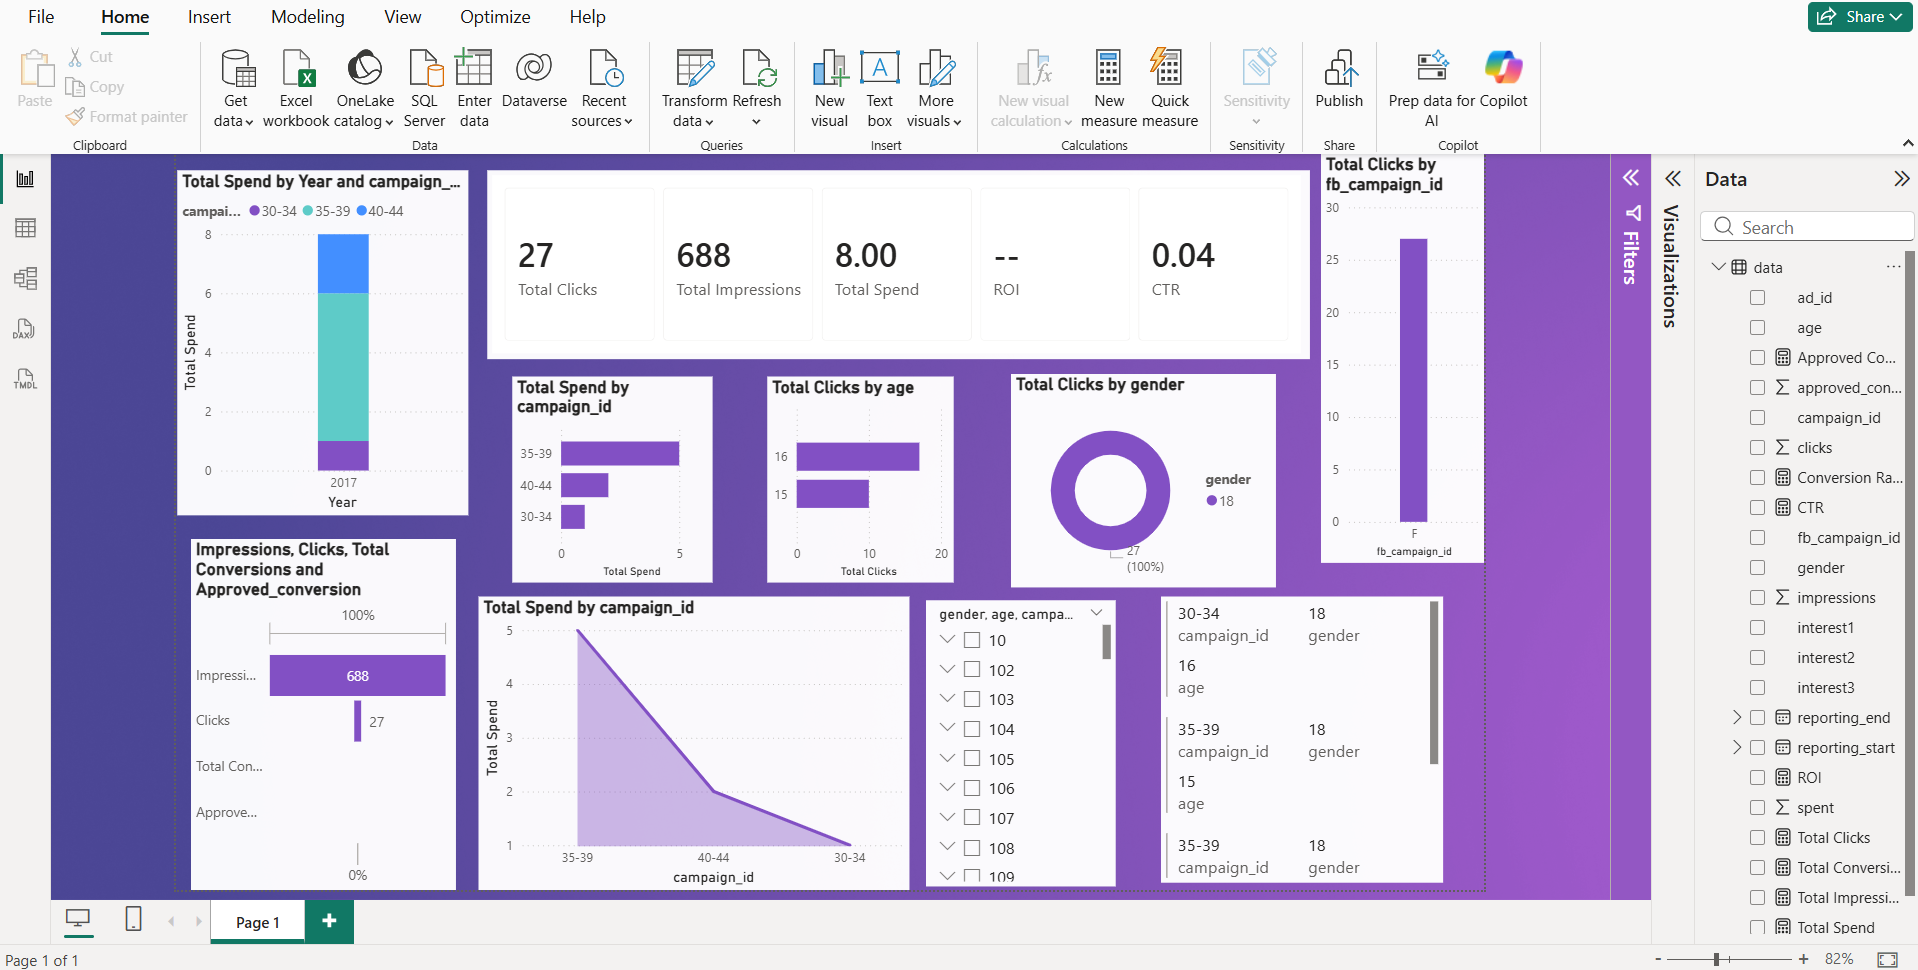

The page's visual inventory and layout, read from the dashboard file:
{"tool":"powerbi","page":{"name":"Page 1","canvas":[1280,720],"ordinal":0},"visuals":[{"type":"barChart","fields":{"Category":["data.campaign_id"],"Y":["data.Total Spend"]},"box":[328.9,217.7,195.7,201.8],"z":0},{"type":"clusteredColumnChart","fields":{"Category":["data.fb_campaign_id"],"Y":["data.Total Clicks"]},"box":[1120.1,0,160.2,399.9],"z":1000},{"type":"donutChart","fields":{"Category":["data.gender"],"Y":["data.Total Clicks"]},"box":[816.9,215.2,259.2,209.1],"z":2000},{"type":"barChart","fields":{"Category":["data.age"],"Y":["data.Total Clicks"]},"box":[578.4,217.7,182.2,201.8],"z":3000},{"type":"slicer","fields":{"Values":["data.gender","data.age","data.campaign_id"]},"box":[733.7,436.6,185.9,280],"z":4000},{"type":"cardVisual","fields":{"Data":["data.Total Clicks","data.Total Impressions","data.Total Spend","data.ROI","data.CTR"]},"box":[304.5,15.9,804.6,184.6],"z":5000},{"type":"funnel","fields":{"Y":["Sum(data.impressions)","Sum(data.clicks)","data.Total Conversions","Sum(data.approved_conversion)"]},"box":[14.7,376.6,259.2,343.6],"z":6000},{"type":"areaChart","fields":{"Category":["data.campaign_id"],"Y":["data.Total Spend"]},"box":[295.9,432.9,421.9,287.4],"z":7000},{"type":"columnChart","fields":{"Category":["data.reporting_start.Variation.Date Hierarchy.Year","data.reporting_start.Variation.Date Hierarchy.Quarter","data.reporting_start.Variation.Date Hierarchy.Month","data.reporting_start.Variation.Date Hierarchy.Day"],"Series":["data.campaign_id"],"Y":["data.Total Spend"]},"box":[1.2,15.9,284.9,337.5],"z":8000},{"type":"multiRowCard","fields":{"Values":["data.campaign_id","data.gender","data.age"]},"box":[963.6,432.9,276.4,280],"z":9000}]}

Visuals, with their boxes on the page's 1280x720 design canvas (x1, y1, x2, y2). These are canvas units, not pixel positions in the 1918x970 screenshot, which may show the page scaled, cropped or inside an application window:
barChart - data.campaign_id x data.Total Spend: (left=329, top=218, right=525, bottom=420)
clusteredColumnChart - data.fb_campaign_id x data.Total Clicks: (left=1120, top=0, right=1280, bottom=400)
donutChart - data.gender x data.Total Clicks: (left=817, top=215, right=1076, bottom=424)
barChart - data.age x data.Total Clicks: (left=578, top=218, right=761, bottom=420)
slicer - data.gender x data.age: (left=734, top=437, right=920, bottom=717)
cardVisual - data.Total Clicks x data.Total Impressions: (left=304, top=16, right=1109, bottom=200)
funnel - Sum(data.impressions) x Sum(data.clicks): (left=15, top=377, right=274, bottom=720)
areaChart - data.campaign_id x data.Total Spend: (left=296, top=433, right=718, bottom=720)
columnChart - data.reporting_start.Variation.Date Hierarchy.Year x data.reporting_start.Variation.Date Hierarchy.Quarter: (left=1, top=16, right=286, bottom=353)
multiRowCard - data.campaign_id x data.gender: (left=964, top=433, right=1240, bottom=713)
